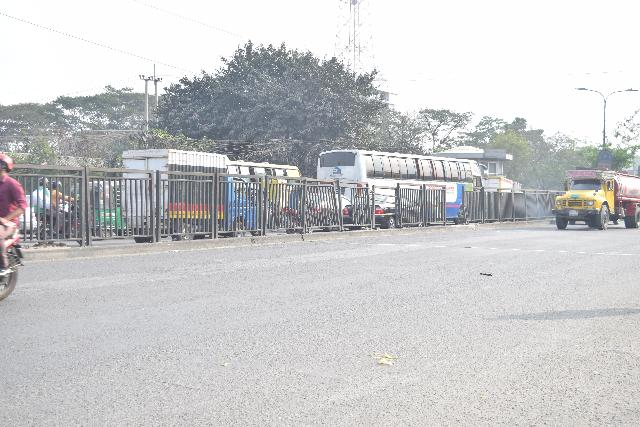bus: (315, 143, 484, 189)
car: (342, 190, 426, 228)
truck: (117, 143, 262, 243), (551, 165, 640, 233)
